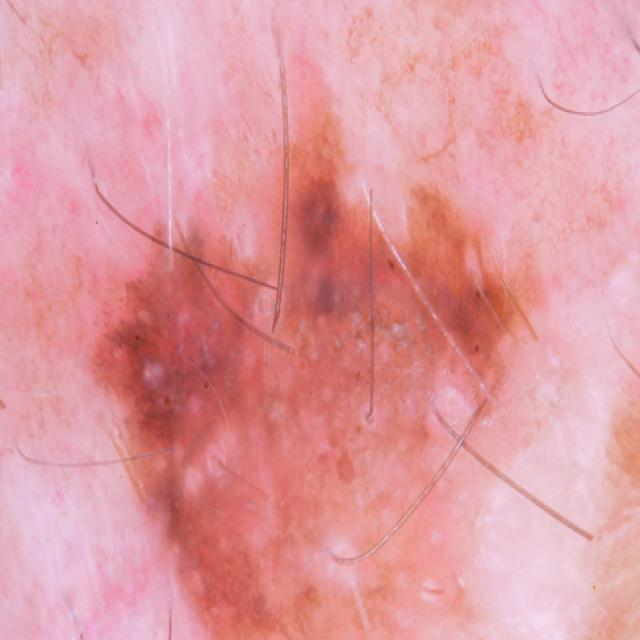Melanoma: (30, 154, 628, 640)
